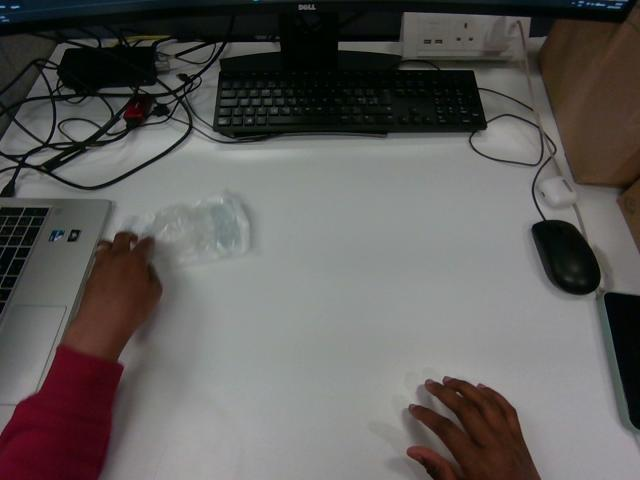gallipot: (123, 192, 249, 264)
